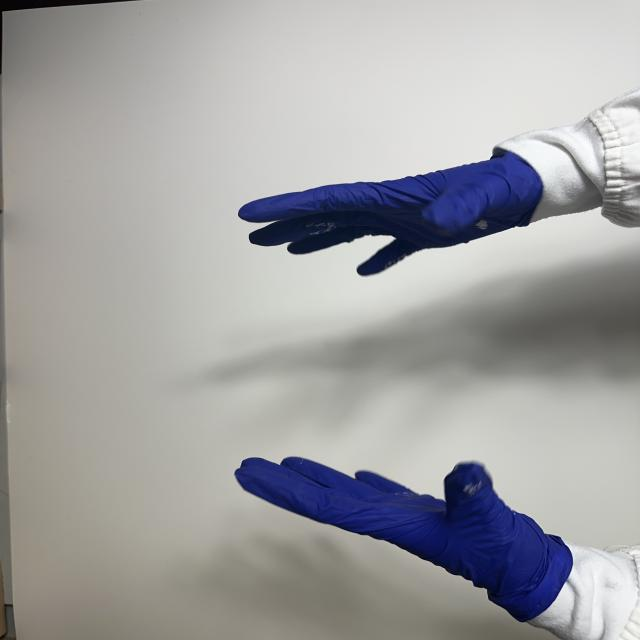gloves_contaminated: (236, 458, 574, 621), (239, 152, 542, 275)
